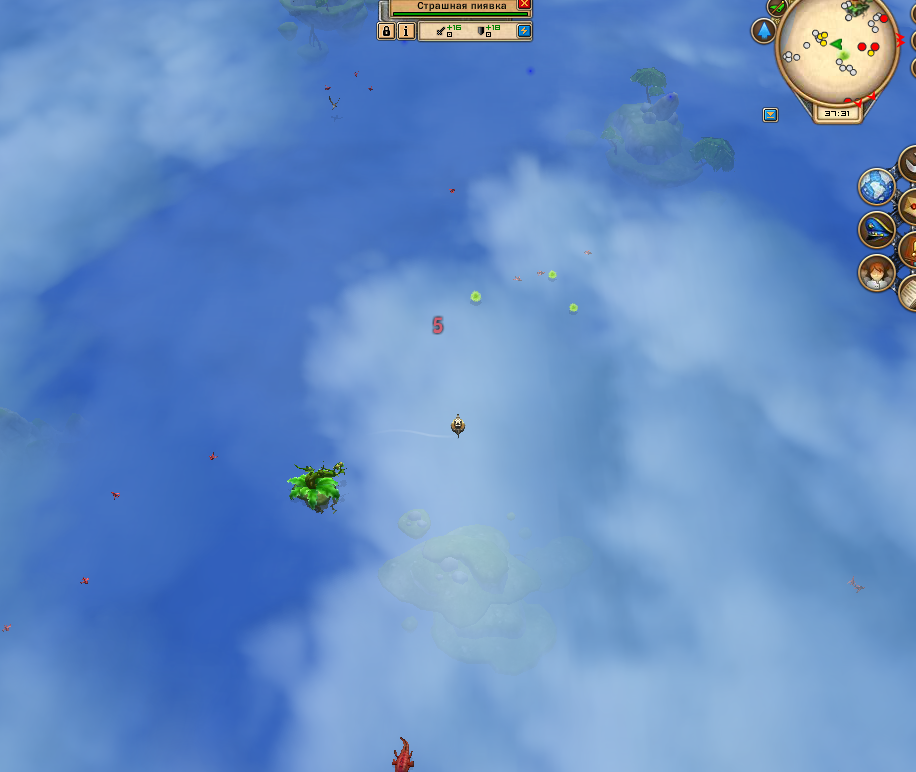dandelion-empty: (282, 456, 349, 515)
fluff: (466, 288, 486, 307), (566, 301, 581, 316), (546, 269, 560, 283)
